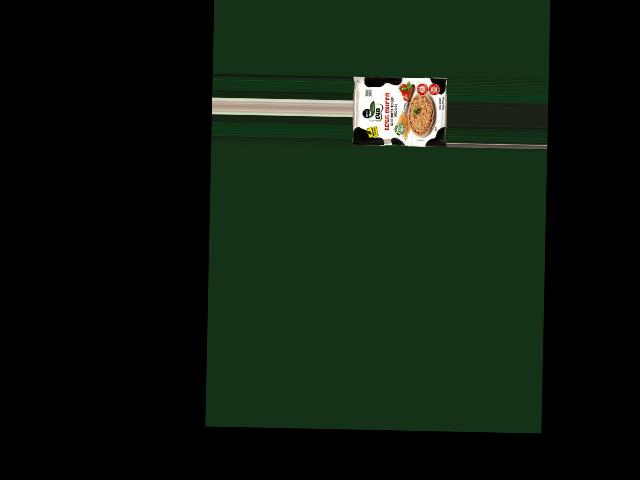cheese: (359, 64, 443, 148)
